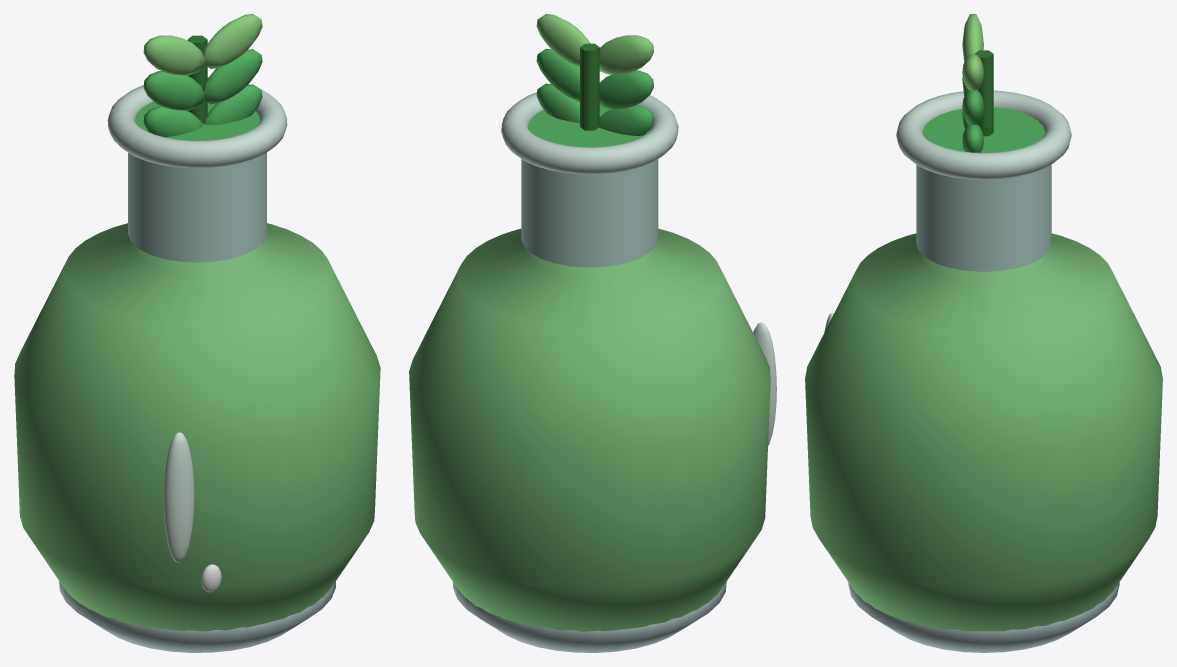
The model's file is herbtonic.glb.
3 views of the same model, side by side, from view 1: azimuth 30°, elevation 25°; view 2: azimuth 150°, elevation 25°; view 3: azimuth 270°, elevation 25° (orthographic). The views are drawn at different scales.
Visible parts, largest first — view 1: _herb-infusion_infusion, _bottle_cyl, _herb-leaves_herb_leaf; view 2: _herb-infusion_infusion, _bottle_cyl, _herb-leaves_herb_leaf; view 3: _herb-infusion_infusion, _bottle_cyl, _herb-leaves_herb_leaf.
Boxes of the visible parts, x1,y1,x2,y2 form: _herb-infusion_infusion: [14, 223, 380, 631]; _bottle_cyl: [59, 77, 335, 652]; _herb-leaves_herb_leaf: [143, 14, 262, 137]; _herb-infusion_infusion: [409, 228, 770, 631]; _bottle_cyl: [453, 92, 776, 652]; _herb-leaves_herb_leaf: [536, 14, 653, 135]; _herb-infusion_infusion: [805, 233, 1162, 631]; _bottle_cyl: [824, 90, 1119, 652]; _herb-leaves_herb_leaf: [962, 14, 993, 152].
Size of the model in its own units: 0.66 by 1.16 by 0.66.
